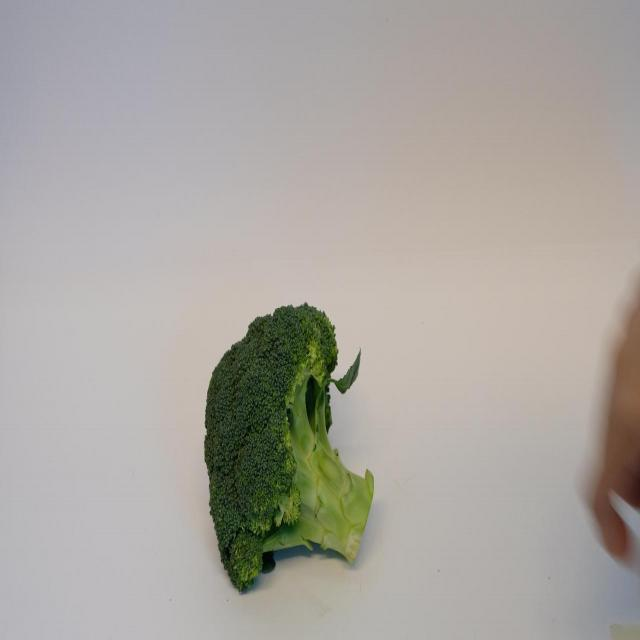broccoli: (200, 296, 379, 599)
